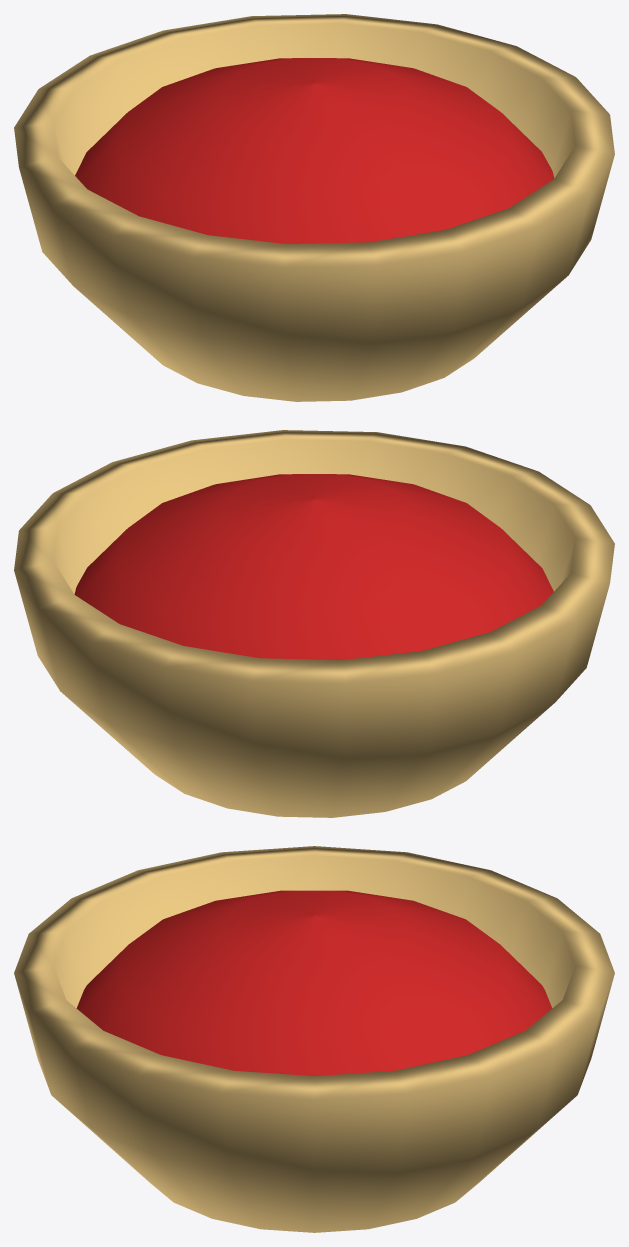
File: kumkum.glb
The picture shows the model from 3 angles, top to bottom: view 1: azimuth 30°, elevation 25°; view 2: azimuth 150°, elevation 25°; view 3: azimuth 270°, elevation 25°; orthographic projection.
Visible parts, largest first — view 1: kumkum; view 2: kumkum; view 3: kumkum.
Boxes of the visible parts, left/top/right/bottom form: kumkum: left=14, top=14, right=614, bottom=401; kumkum: left=14, top=430, right=614, bottom=817; kumkum: left=14, top=846, right=614, bottom=1232.
Size of the model in its own units: 0.076 by 0.034 by 0.076.
